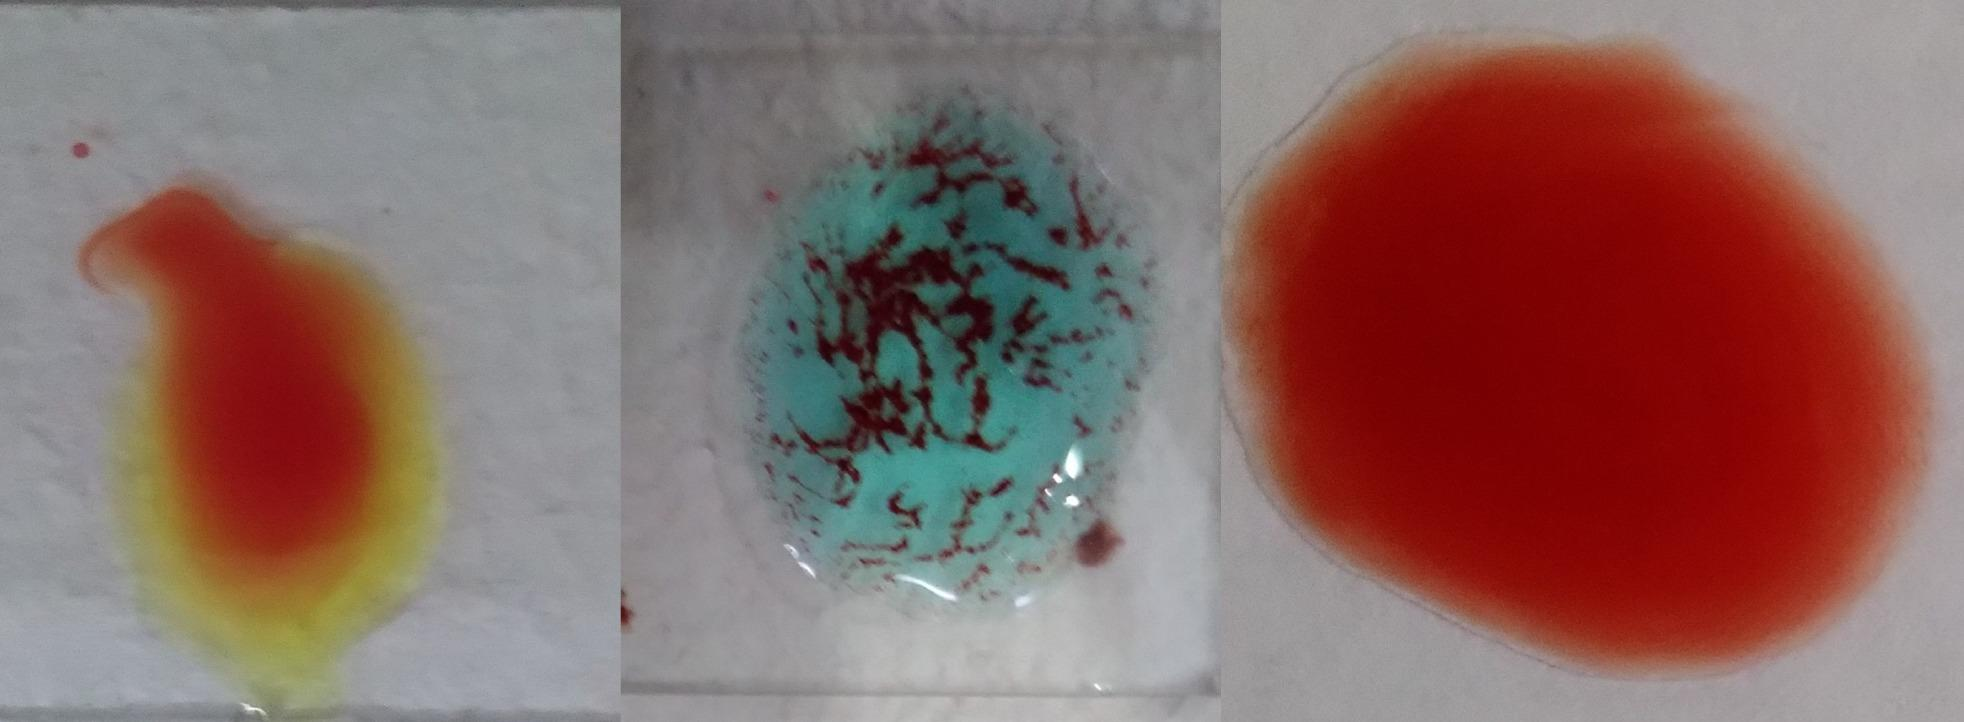A: (730, 98, 1154, 607)
